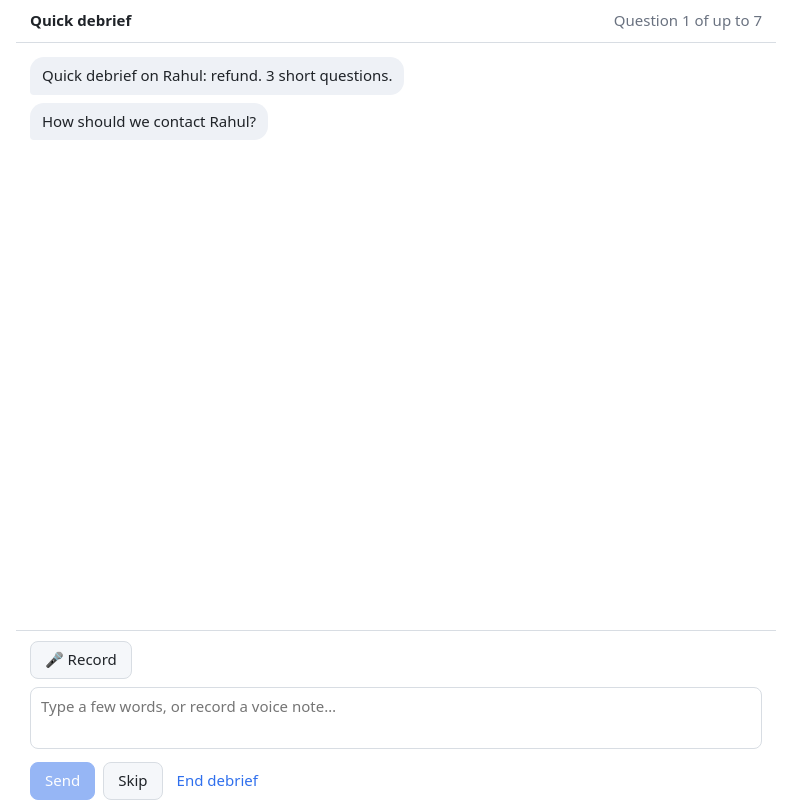
Scenario: voice answers in the chat › locks the composer while recording or transcribing
Click the button with aria-label "Record a voice note".
click(81, 660)  # box [30, 641, 132, 679]
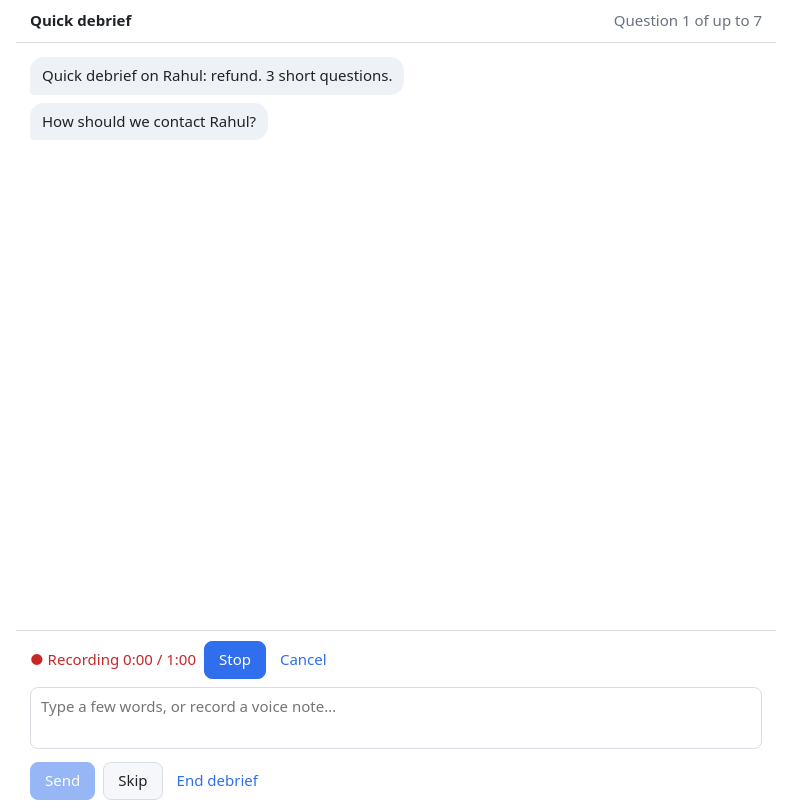
Check: the text box named "Your answer" is disabled, box [30, 687, 762, 748]
Check: the button "Stop" is shown, box [204, 641, 266, 679]
